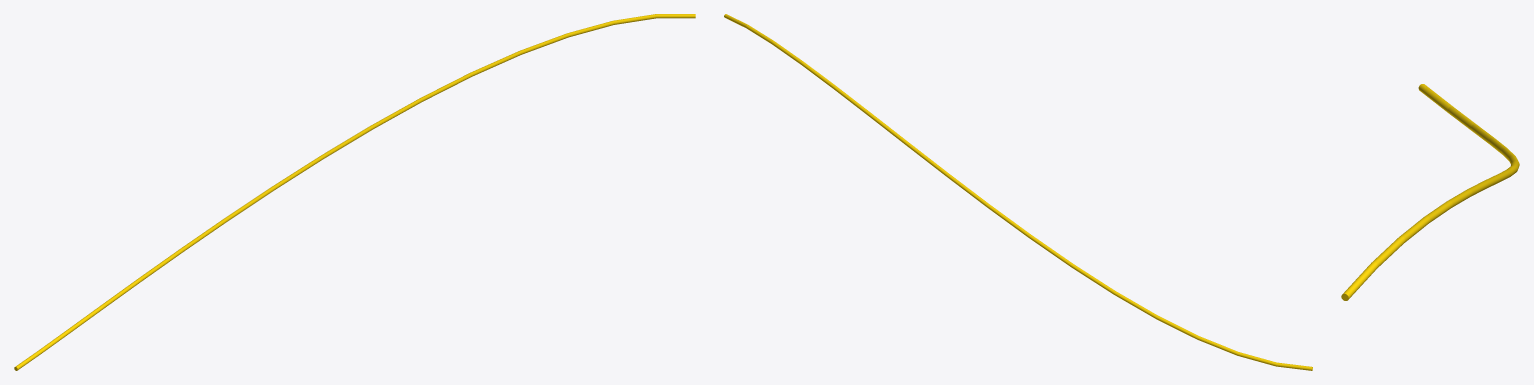
Rendered from Event_420107950_track_40.fbx.
3 renders of one model, left to right at view 1: azimuth 30°, elevation 25°; view 2: azimuth 150°, elevation 25°; view 3: azimuth 270°, elevation 25°, orthographic. The views are drawn at different scales.
Parts seen in each view (by area): view 1: Model; view 2: Model; view 3: Model.
Boxes of the visible parts, left/top/right/bottom form: Model: left=14, top=14, right=695, bottom=370; Model: left=724, top=14, right=1312, bottom=370; Model: left=1341, top=84, right=1519, bottom=300.
Size of the model in its own units: 6.86 by 2.12 by 0.871.
